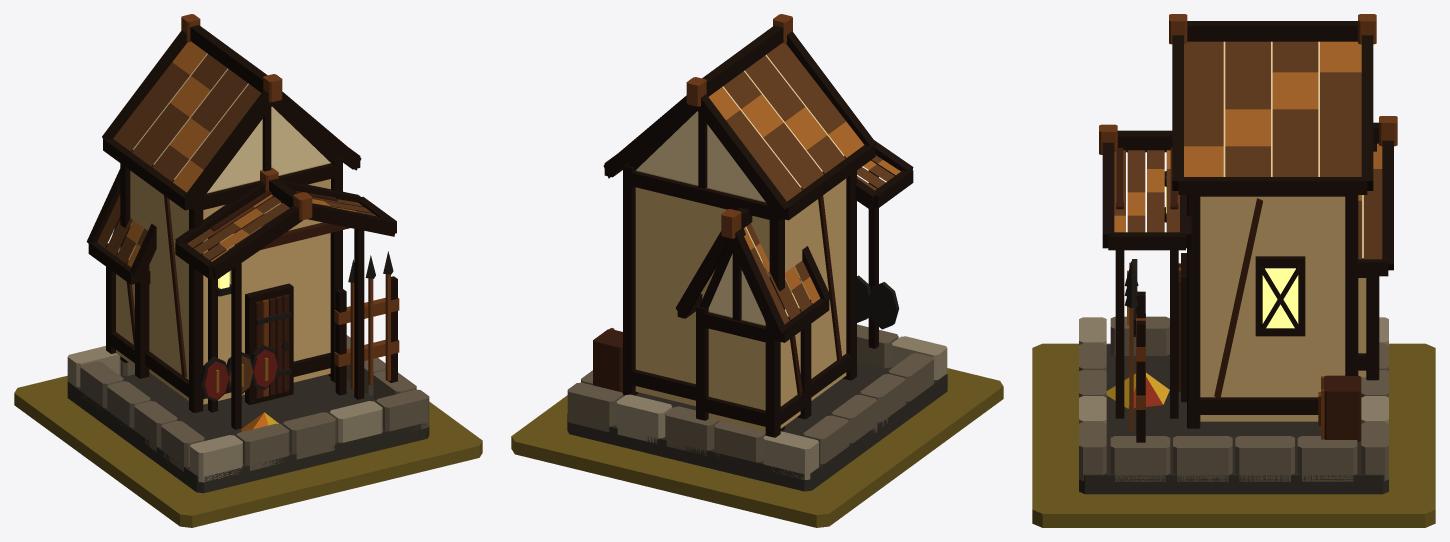
Rendered from armory_t5.glb.
3 renders of one model, left to right at view 1: azimuth 30°, elevation 25°; view 2: azimuth 150°, elevation 25°; view 3: azimuth 270°, elevation 25°, orthographic. The views are drawn at different scales.
Parts seen in each view (by area): view 1: MMR | armory | T05 Architecture.001, MMR | armory | Tier 05 Ground.001; view 2: MMR | armory | T05 Architecture.001, MMR | armory | Tier 05 Ground.001; view 3: MMR | armory | T05 Architecture.001, MMR | armory | Tier 05 Ground.001, MMR | armory | T05 Autumn Dressing.001.
Part boxes in pixels (bbox=[...]): MMR | armory | T05 Architecture.001: bbox=[67, 14, 429, 493]; MMR | armory | Tier 05 Ground.001: bbox=[14, 375, 482, 527]; MMR | armory | T05 Architecture.001: bbox=[567, 14, 947, 491]; MMR | armory | Tier 05 Ground.001: bbox=[511, 368, 1003, 527]; MMR | armory | T05 Architecture.001: bbox=[1079, 14, 1397, 494]; MMR | armory | Tier 05 Ground.001: bbox=[1032, 343, 1435, 527]; MMR | armory | T05 Autumn Dressing.001: bbox=[1106, 373, 1169, 408].
Bounding box in the file's own units: 1.3 × 1.51 × 1.3.
Materials: 2 (1 with a texture image).
